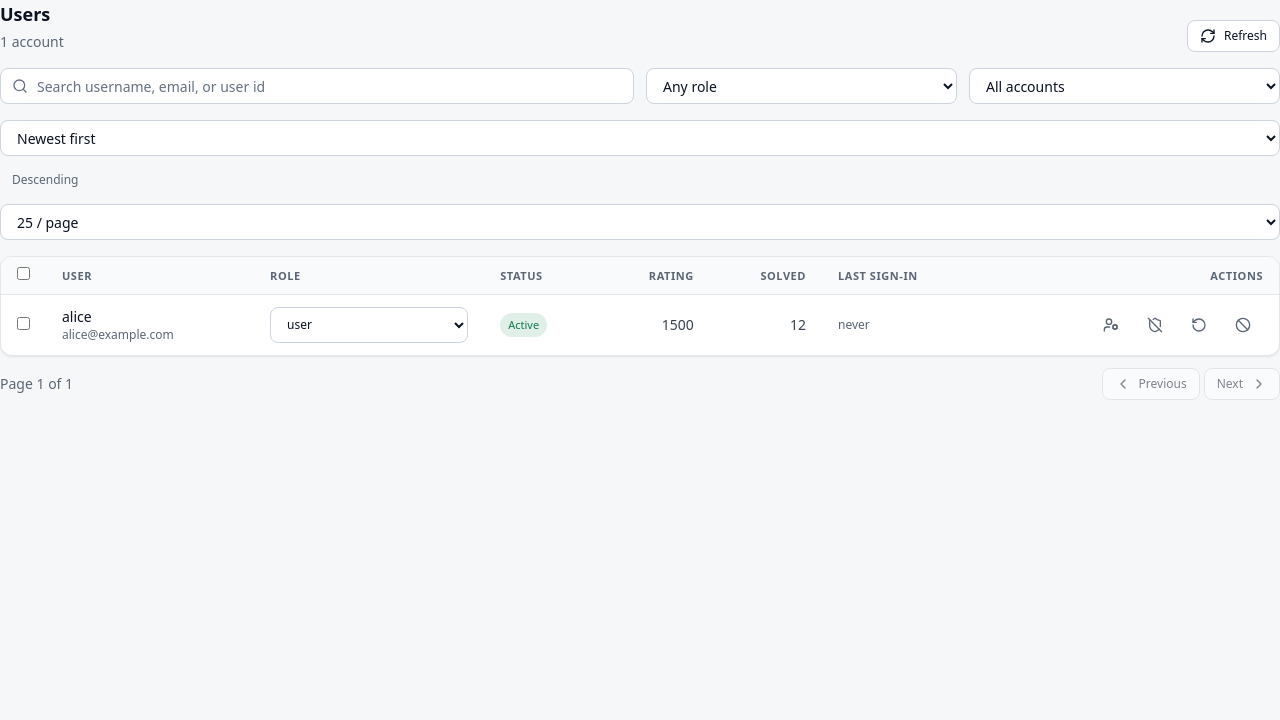
Scenario: a skipped account is reported instead of a bare success
Expected: the button "alice" is shown, [62,307,92,327]
Click the checkbox named "Select alice" at {"x": 24, "y": 323}, box [17,317,30,330]
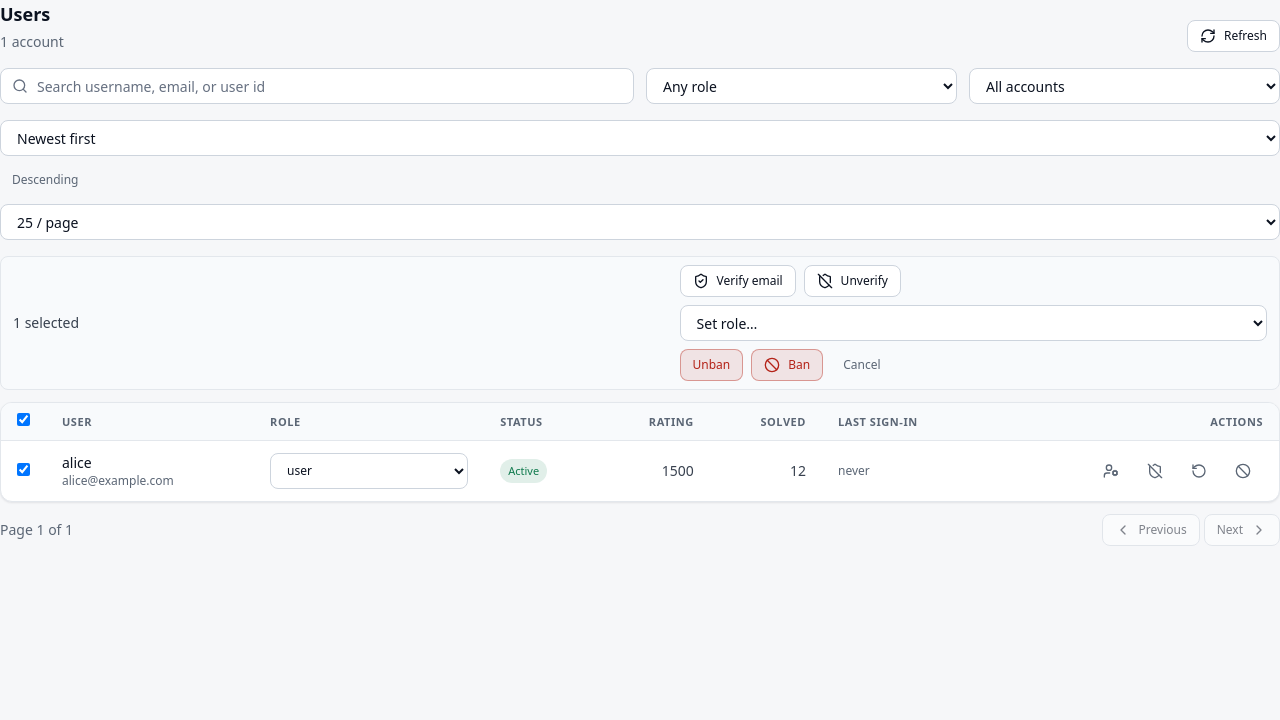
Click the button "Ban" at {"x": 787, "y": 365}, box [751,349,823,381]
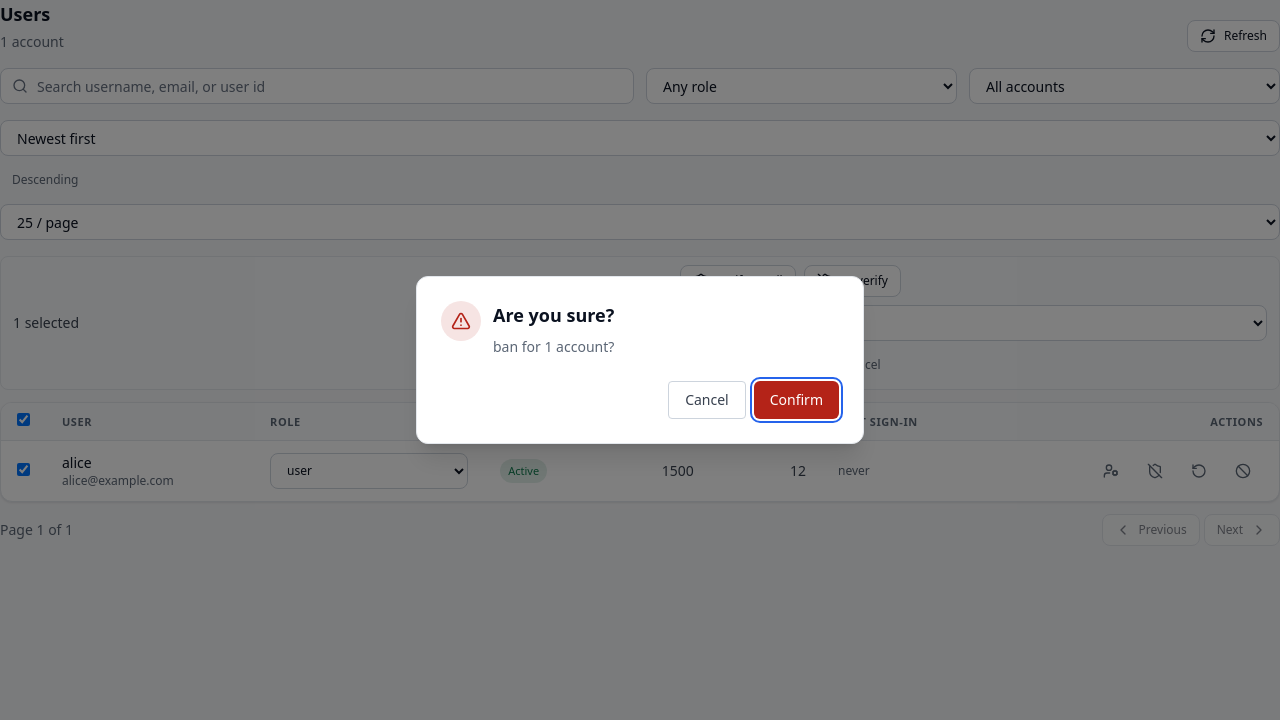
Click the button "Confirm" at {"x": 796, "y": 400}, box [754,381,839,419]
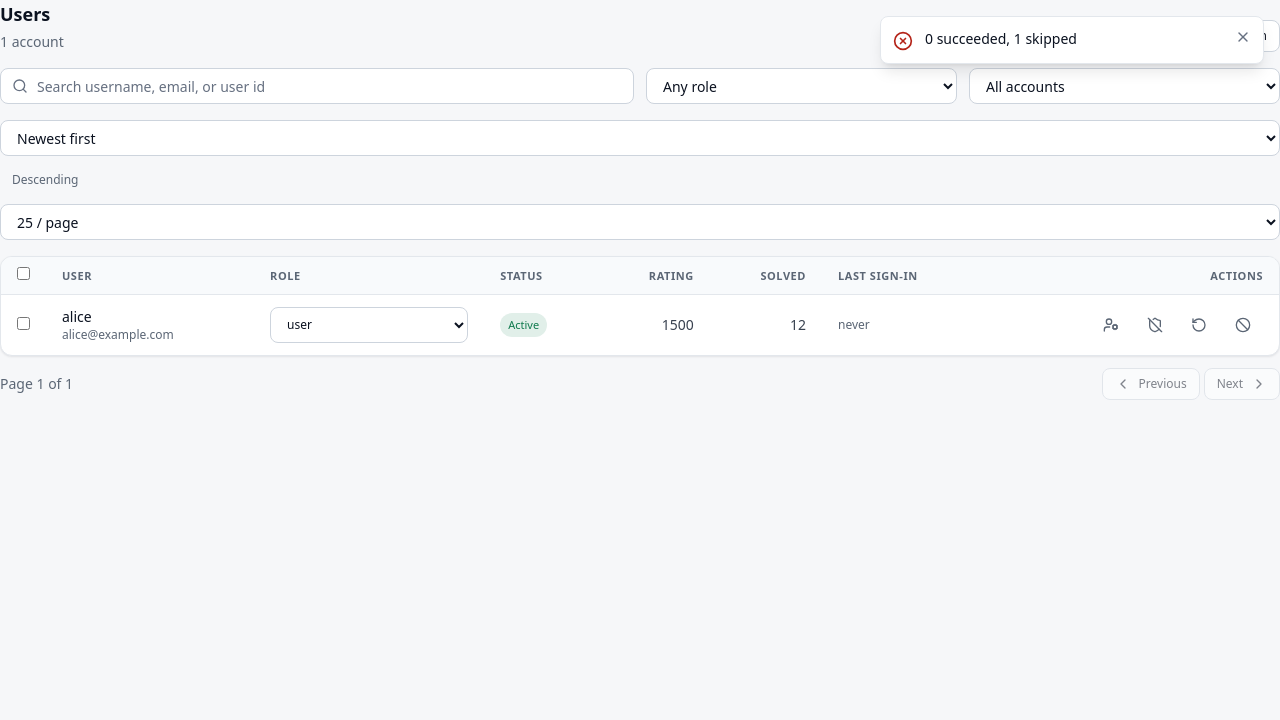
Expected: the text "0 succeeded, 1 skipped" is shown, [925,29,1077,48]
